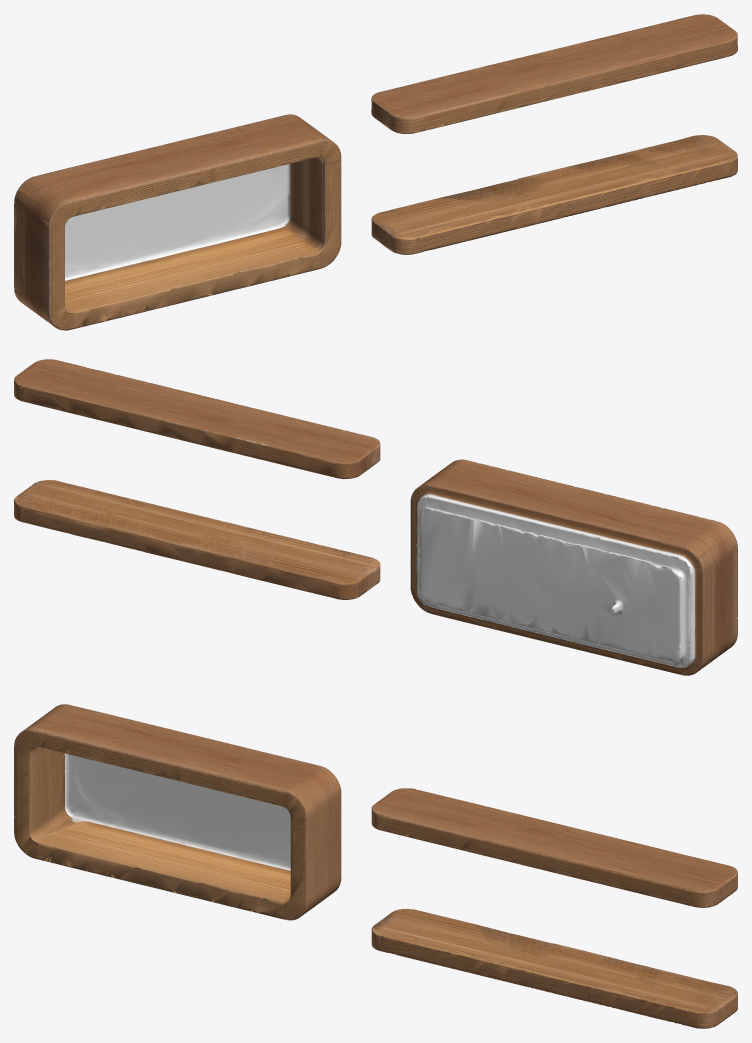
3 renders of one model, top to bottom at view 1: azimuth 30°, elevation 25°; view 2: azimuth 150°, elevation 25°; view 3: azimuth 330°, elevation 25°, orthographic.
Parts seen in each view (by area): view 1: Mesh_0; view 2: Mesh_0; view 3: Mesh_0.
Boxes of the visible parts, bbox=[...] form: Mesh_0: bbox=[14, 14, 737, 330]; Mesh_0: bbox=[14, 359, 737, 675]; Mesh_0: bbox=[14, 704, 737, 1028].
Size of the model in its own units: 1.91 by 0.3605 by 0.2282.
Materials: 1 (1 with a texture image).
